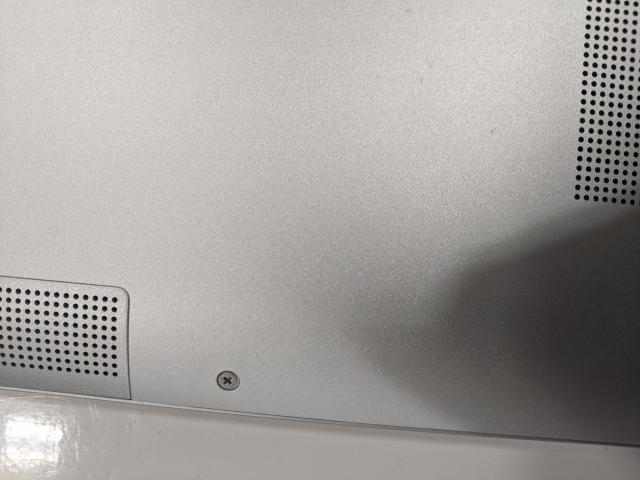CRS: (214, 369, 243, 391)
